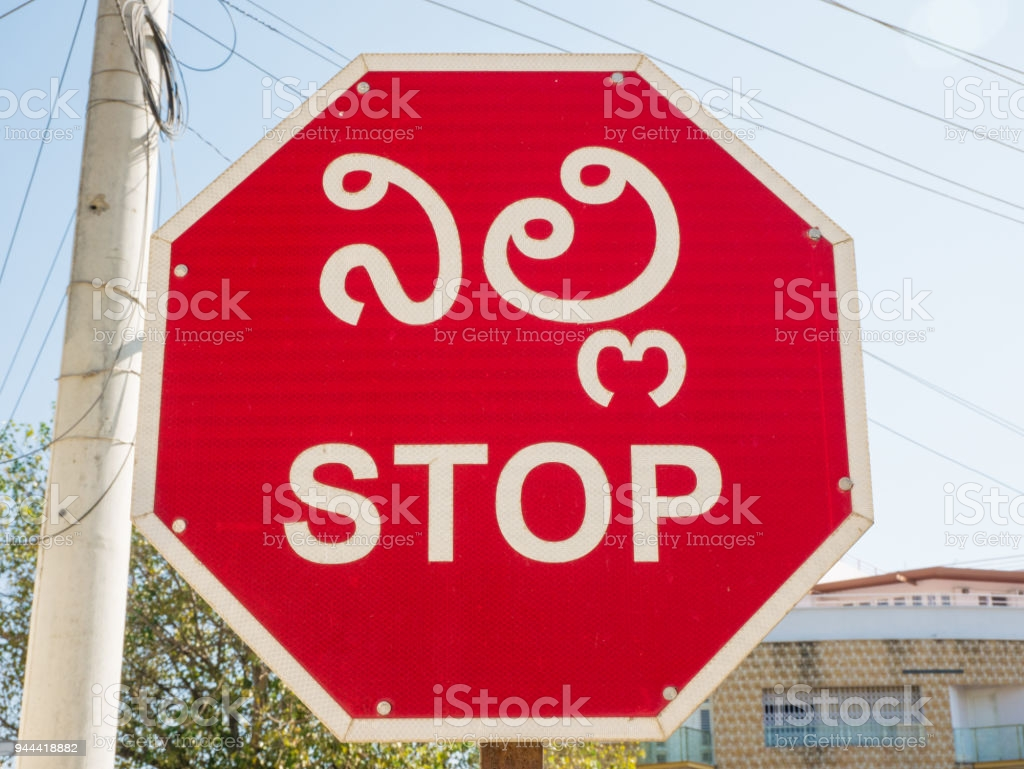stop: (212, 94, 776, 712)
